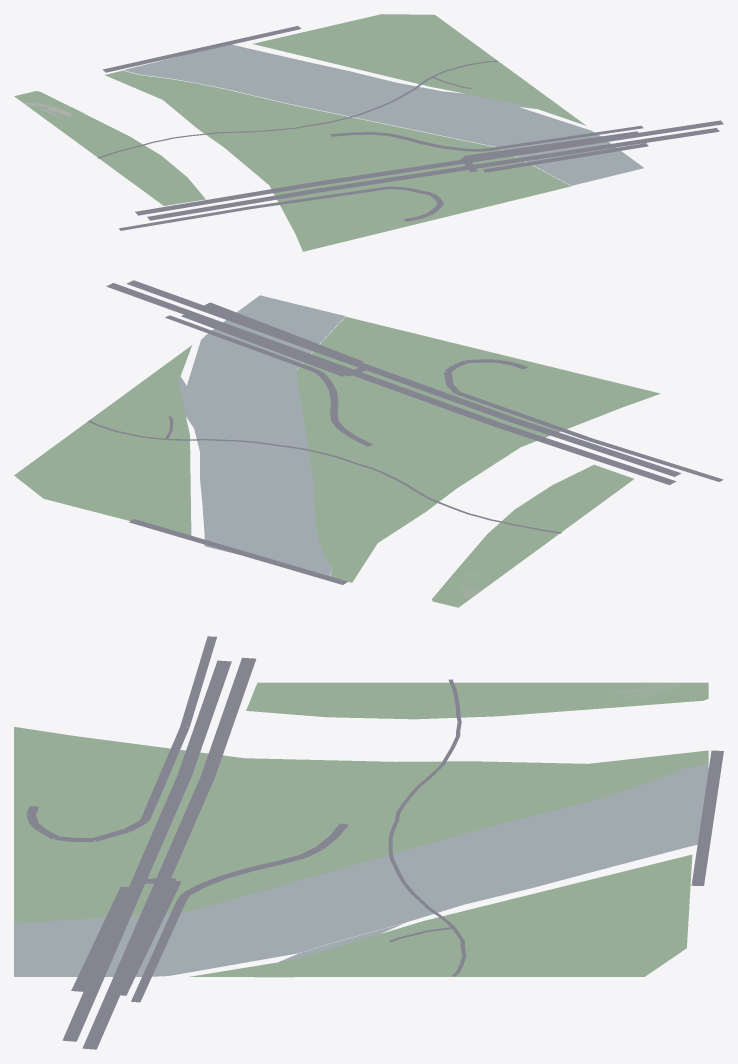
The model's file is 122_80_mid.glb.
3 views of the same model, one above another, from view 1: azimuth 30°, elevation 25°; view 2: azimuth 150°, elevation 25°; view 3: azimuth 270°, elevation 25° (orthographic). The views are drawn at different scales.
Bounding box in the file's own units: 704 × 4.68 × 511.
